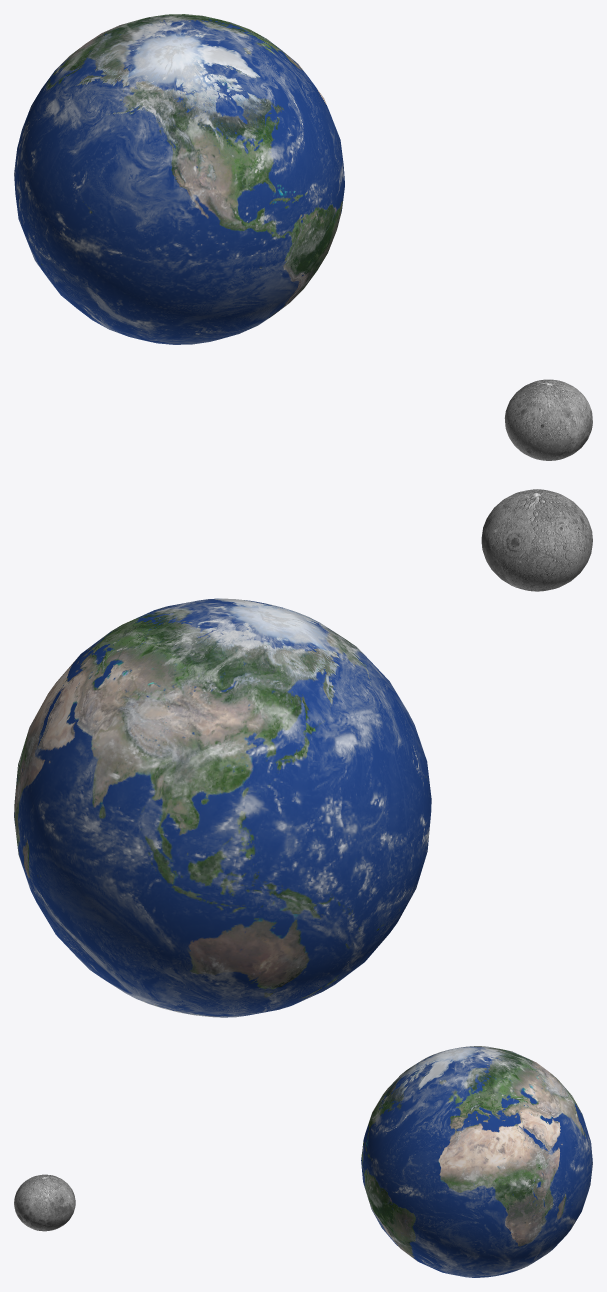
The picture shows the model from 3 angles, top to bottom: view 1: azimuth 30°, elevation 25°; view 2: azimuth 150°, elevation 25°; view 3: azimuth 270°, elevation 25°; orthographic projection. The views are drawn at different scales.
Parts seen in each view (by area): view 1: Sphere, Sphere.002; view 2: Sphere, Sphere.002; view 3: Sphere, Sphere.002.
Boxes of the visible parts, left/top/right/bottom form: Sphere: left=14, top=14, right=344, bottom=344; Sphere.002: left=504, top=379, right=592, bottom=460; Sphere: left=14, top=598, right=431, bottom=1017; Sphere.002: left=481, top=489, right=592, bottom=591; Sphere: left=361, top=1046, right=592, bottom=1277; Sphere.002: left=14, top=1174, right=75, bottom=1231.
Size of the model in its own units: 9.96 by 10 by 24.97.
2 materials, 2 textured.
